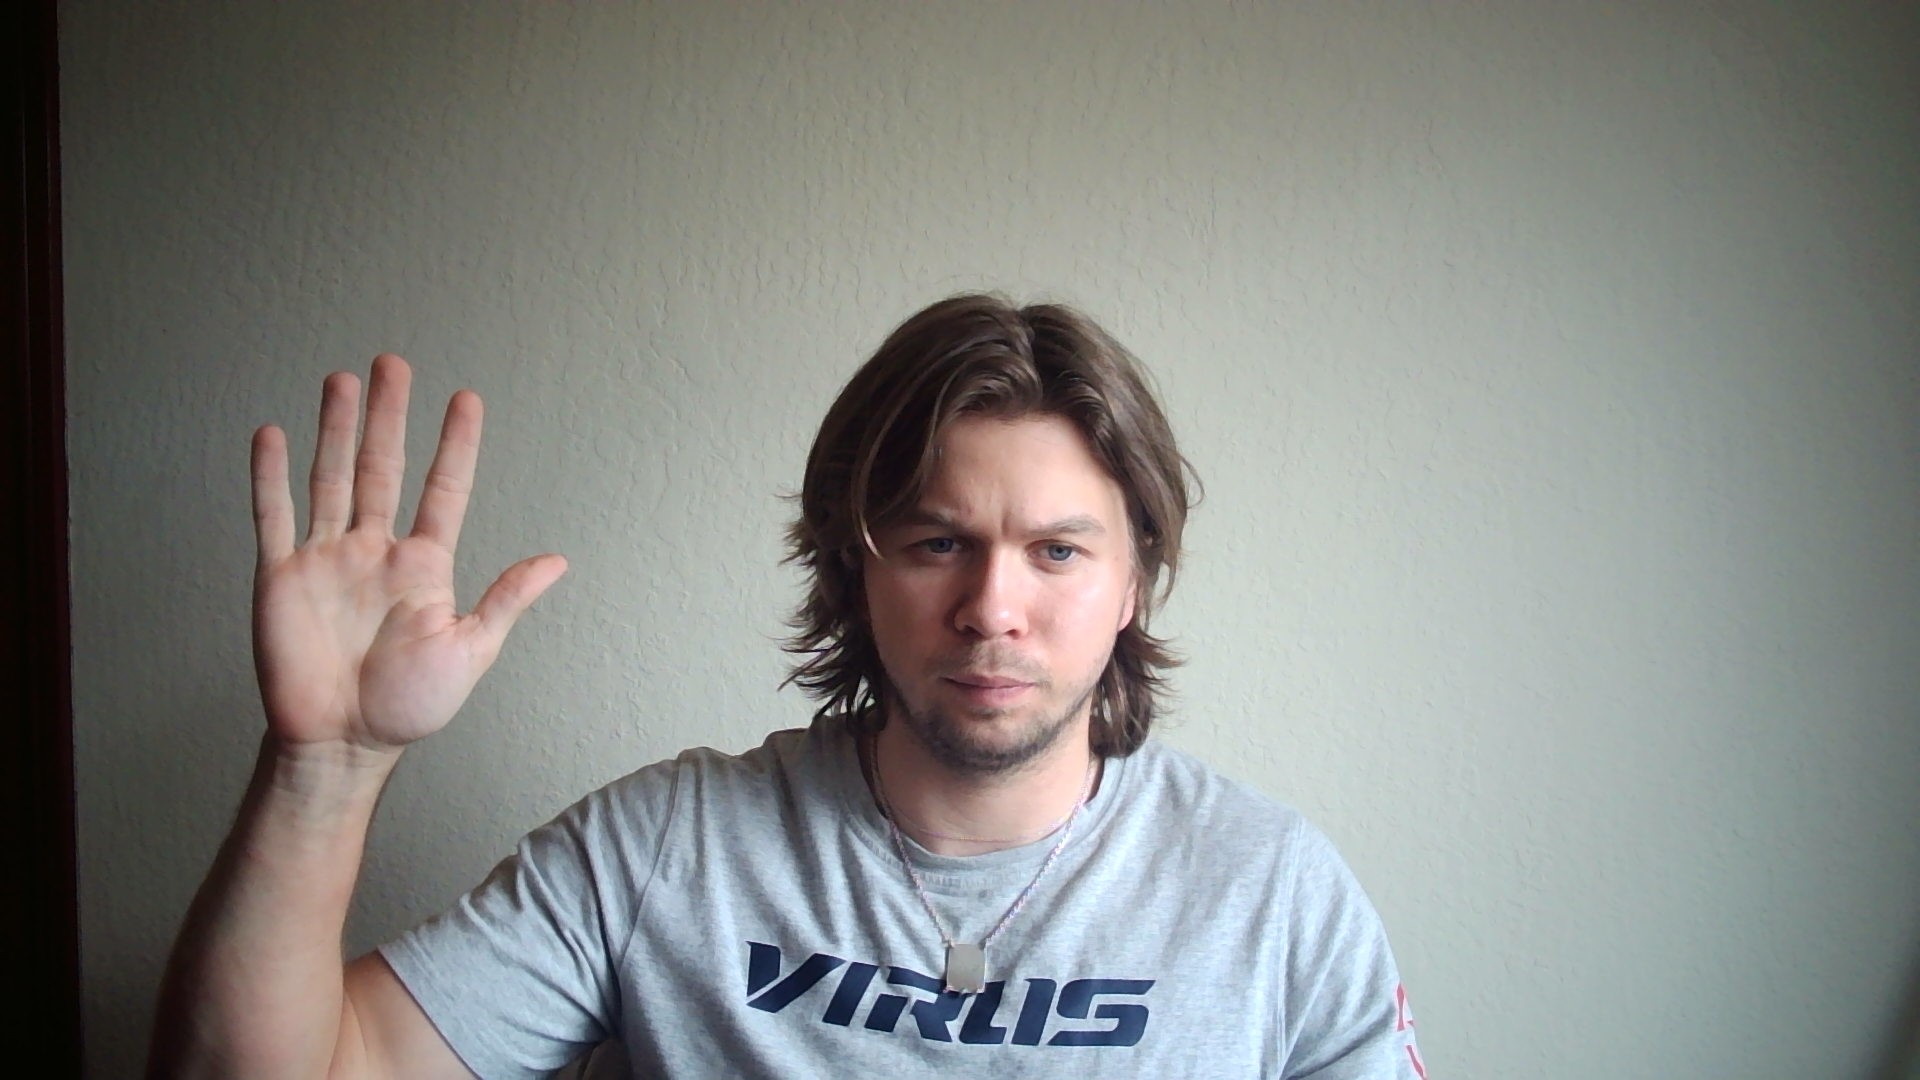hello: (249, 355, 567, 748)
